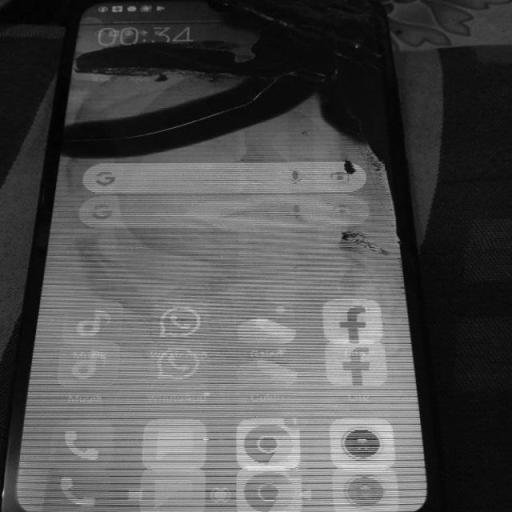phone: (0, 0, 447, 511)
